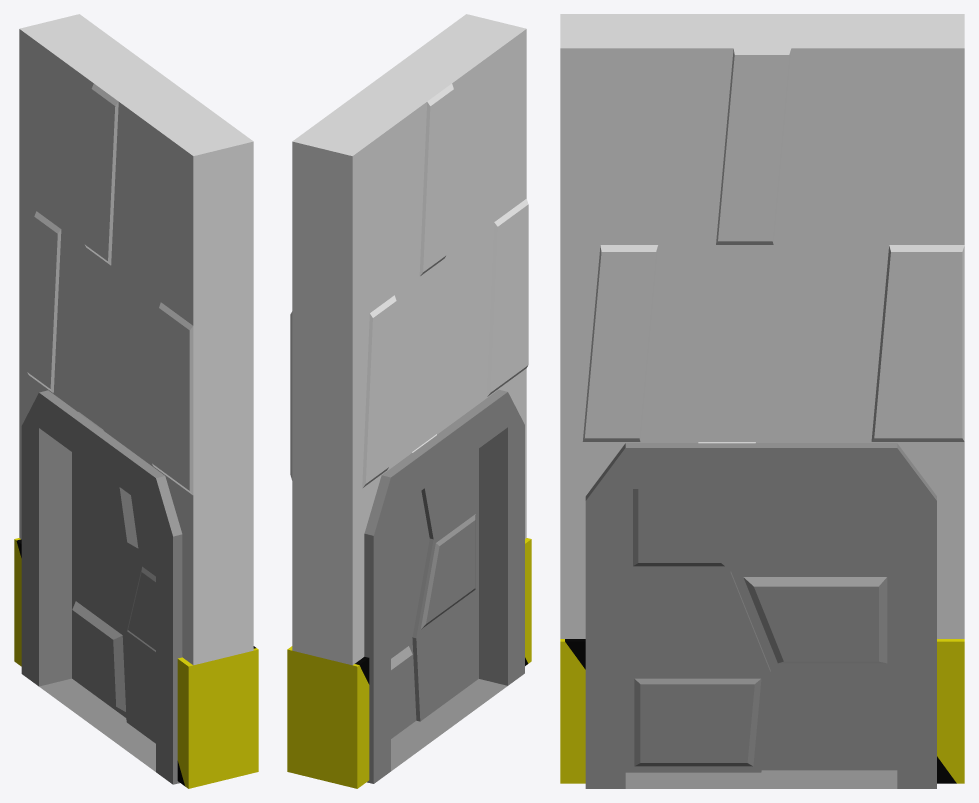
The model's file is wall_door.glb.
The picture shows the model from 3 angles, left to right: view 1: azimuth 30°, elevation 25°; view 2: azimuth 150°, elevation 25°; view 3: azimuth 270°, elevation 25°; orthographic projection. The views are drawn at different scales.
Parts seen in each view (by area): view 1: door_wall, door_part2, door_part1; view 2: door_wall, door_part1, door_part2; view 3: door_wall, door_part2, door_part1.
Boxes of the visible parts, box(x1,y1,x2,y2) form: door_wall: box(14, 14, 258, 788); door_part2: box(72, 452, 139, 717); door_part1: box(122, 495, 155, 743); door_wall: box(287, 14, 531, 788); door_part1: box(412, 448, 478, 721); door_part2: box(391, 491, 429, 738); door_wall: box(560, 14, 964, 788); door_part2: box(731, 489, 897, 770); door_part1: box(625, 489, 770, 772).
Bounding box in the file's own units: 0.5185 × 4.02 × 2.
